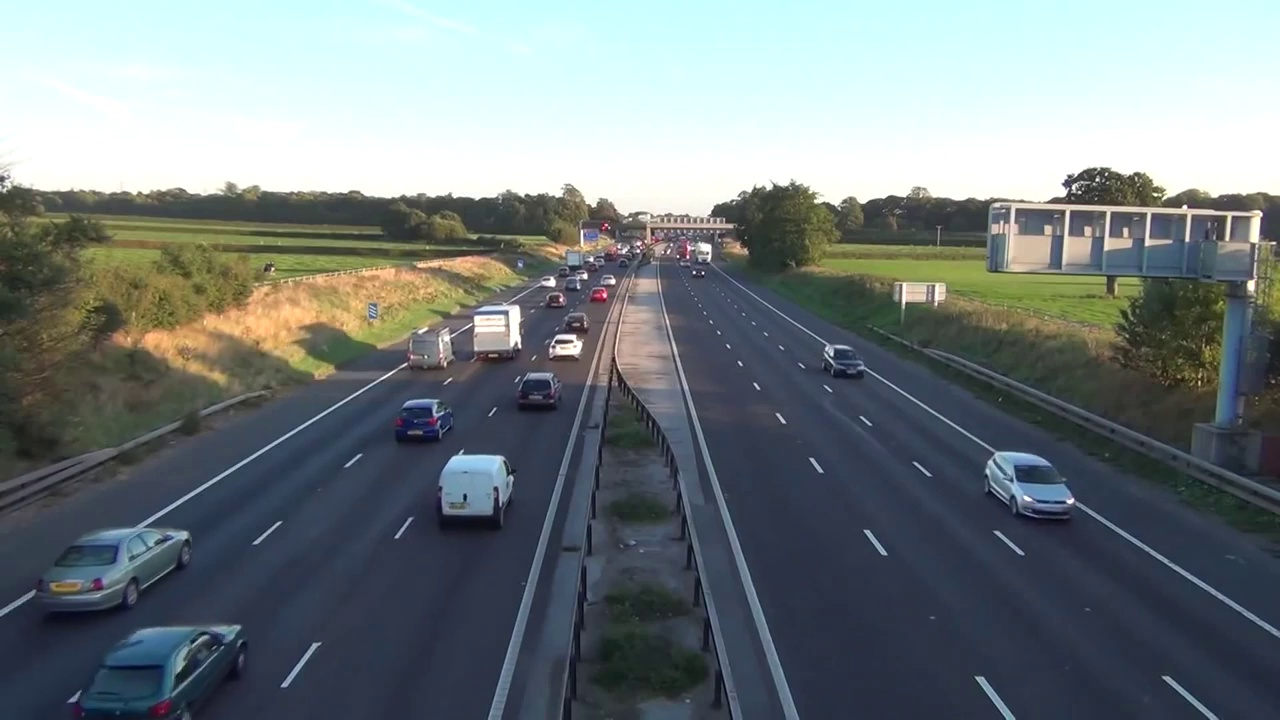bus: (78, 621, 249, 720), (34, 526, 192, 616), (982, 451, 1076, 524), (436, 454, 517, 530), (394, 399, 455, 442), (407, 327, 456, 370), (518, 372, 562, 410), (821, 343, 864, 381), (549, 333, 584, 360), (564, 312, 591, 332), (546, 292, 568, 308), (591, 286, 608, 302), (566, 276, 584, 291), (600, 274, 617, 287), (540, 276, 557, 288), (574, 270, 589, 281), (558, 266, 570, 277)
car: (473, 304, 524, 359), (566, 250, 584, 270)
